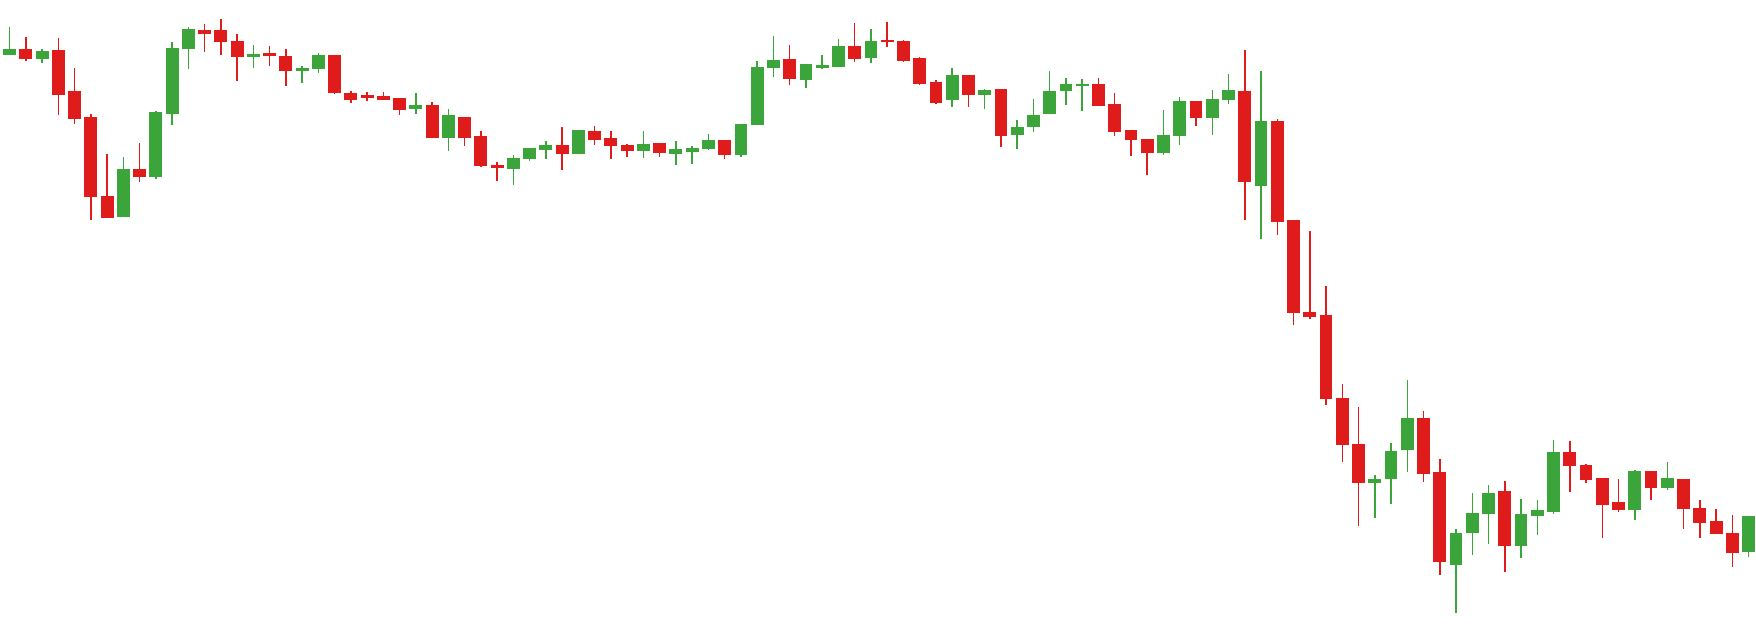buy: (1354, 455, 1481, 617)
sell: (1042, 50, 1252, 152)
